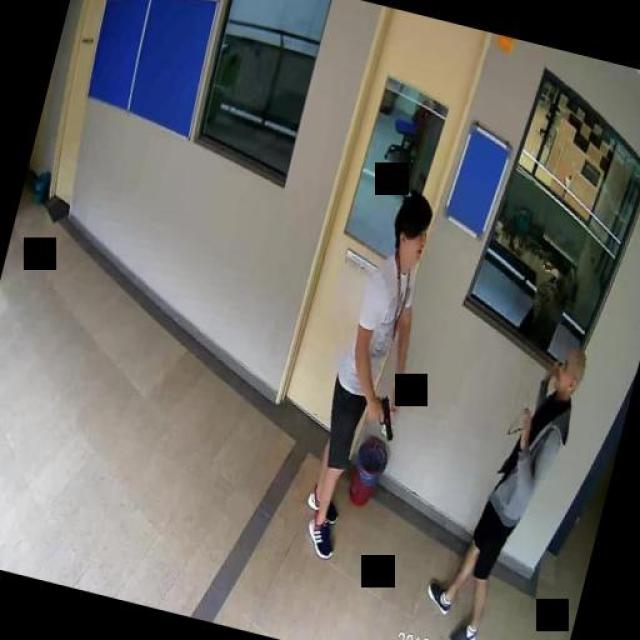gun: (365, 392, 400, 442)
